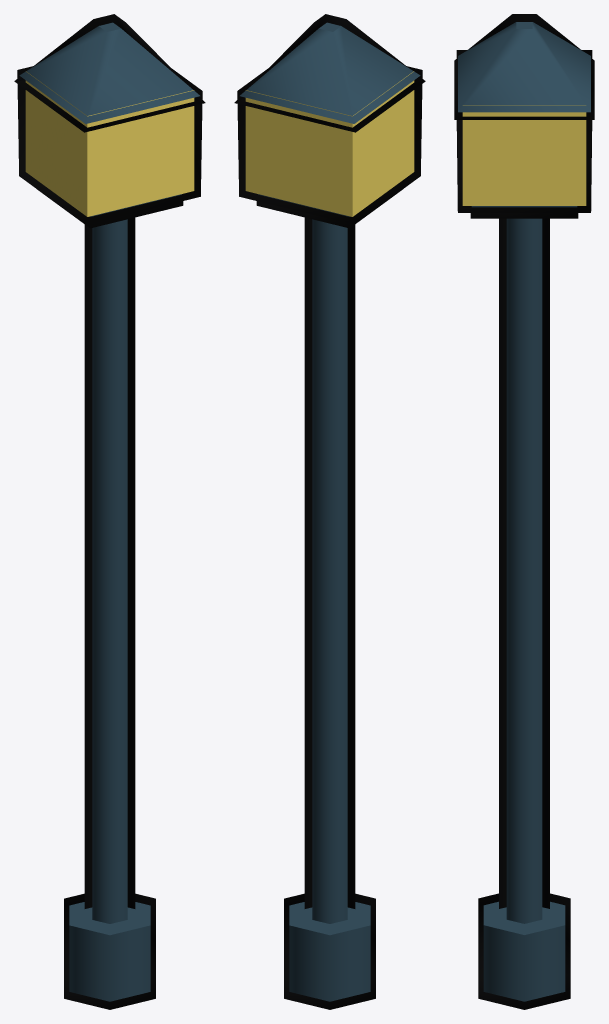
The model's file is BR_Laterne.glb.
3 renders of one model, left to right at view 1: azimuth 30°, elevation 25°; view 2: azimuth 150°, elevation 25°; view 3: azimuth 270°, elevation 25°, orthographic.
Visible parts, largest first — view 1: BR_Laterne_Mesh, BR_Laterne_Outline; view 2: BR_Laterne_Mesh, BR_Laterne_Outline; view 3: BR_Laterne_Mesh, BR_Laterne_Outline.
Part boxes in pixels (bbox=[...]): BR_Laterne_Mesh: bbox=[19, 22, 199, 1001]; BR_Laterne_Outline: bbox=[14, 14, 205, 1009]; BR_Laterne_Mesh: bbox=[240, 22, 420, 1001]; BR_Laterne_Outline: bbox=[234, 14, 425, 1009]; BR_Laterne_Mesh: bbox=[458, 22, 590, 1001]; BR_Laterne_Outline: bbox=[454, 14, 594, 1009].
Bounding box in the file's own units: 0.4783 × 3.63 × 0.4783.
